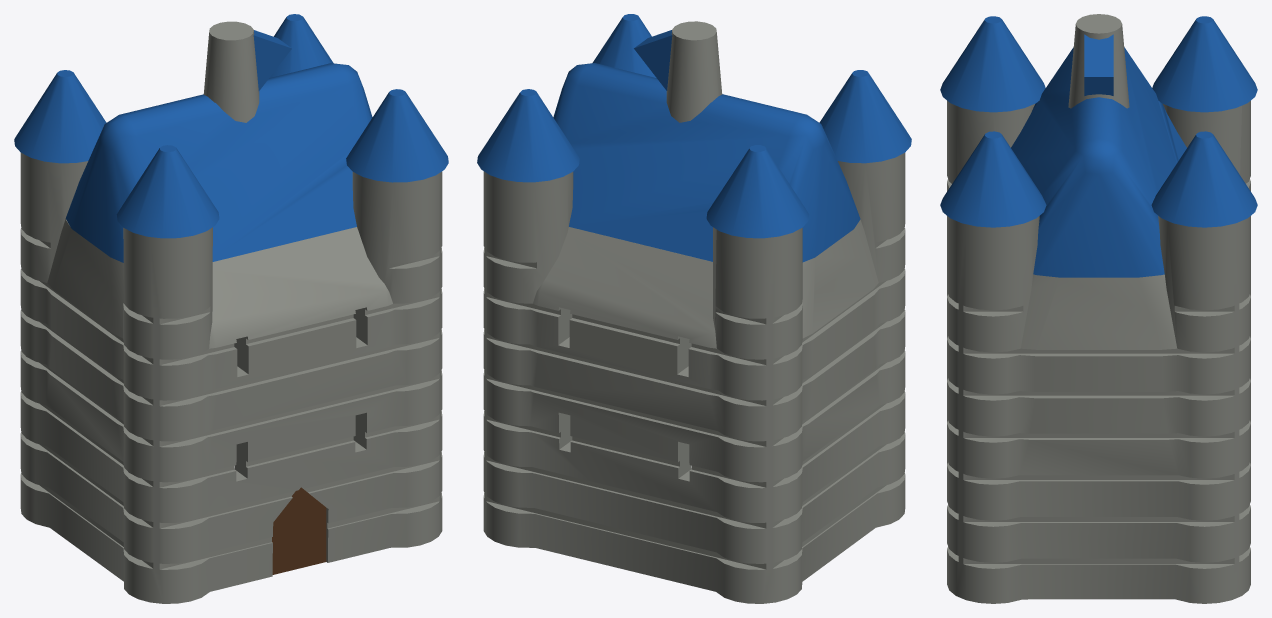
File: festung_blau.glb
3 views of the same model, side by side, from view 1: azimuth 30°, elevation 25°; view 2: azimuth 150°, elevation 25°; view 3: azimuth 270°, elevation 25° (orthographic). The views are drawn at different scales.
Visible parts, largest first — view 1: festung_blau; view 2: festung_blau; view 3: festung_blau.
Boxes of the visible parts, x1,y1,x2,y2 form: festung_blau: (14,14,448,603); festung_blau: (477,14,911,603); festung_blau: (940,14,1257,603).
Size of the model in its own units: 19.6 by 28.7 by 16.43.
